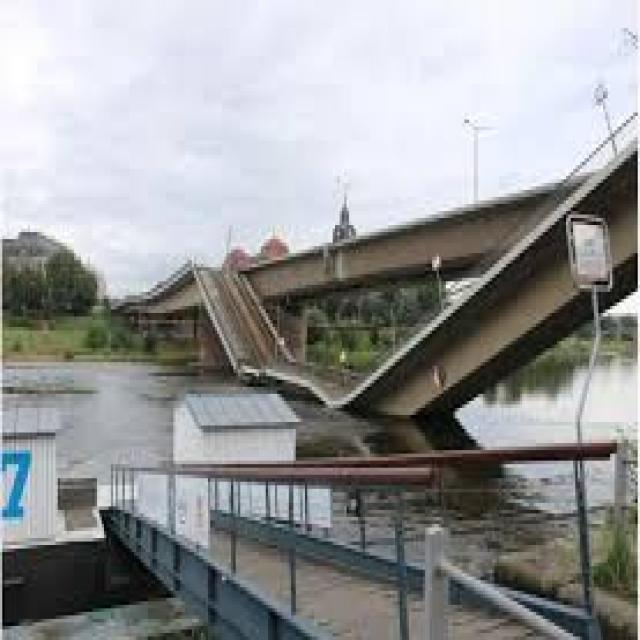bridge collapse: (144, 124, 521, 536)
